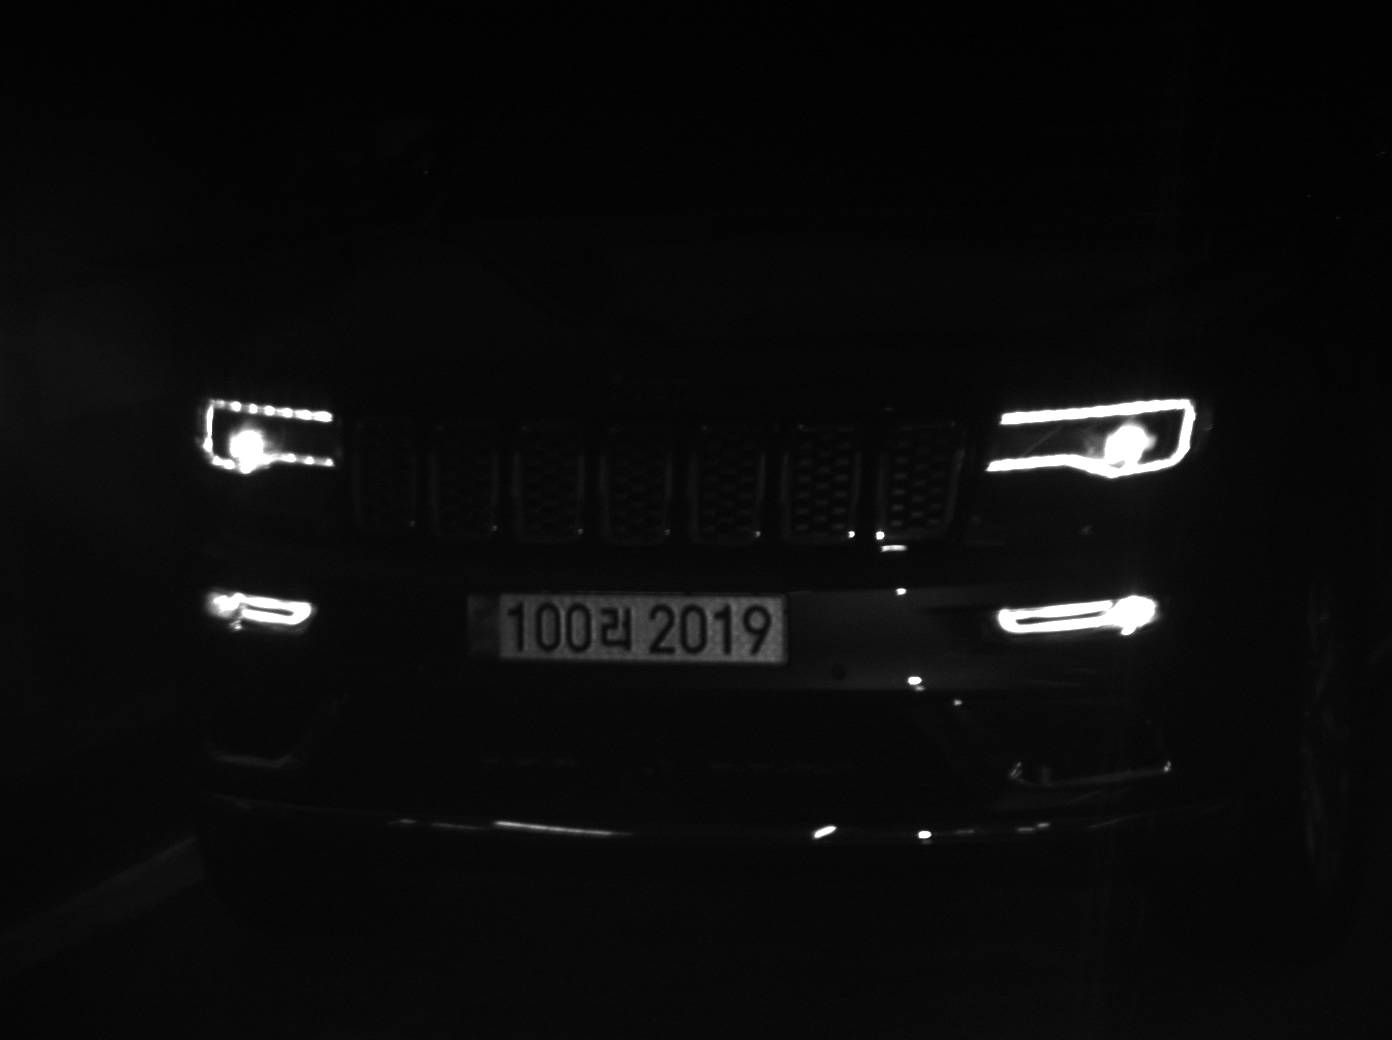car: (145, 1, 1351, 924)
plate: (457, 588, 793, 666)
